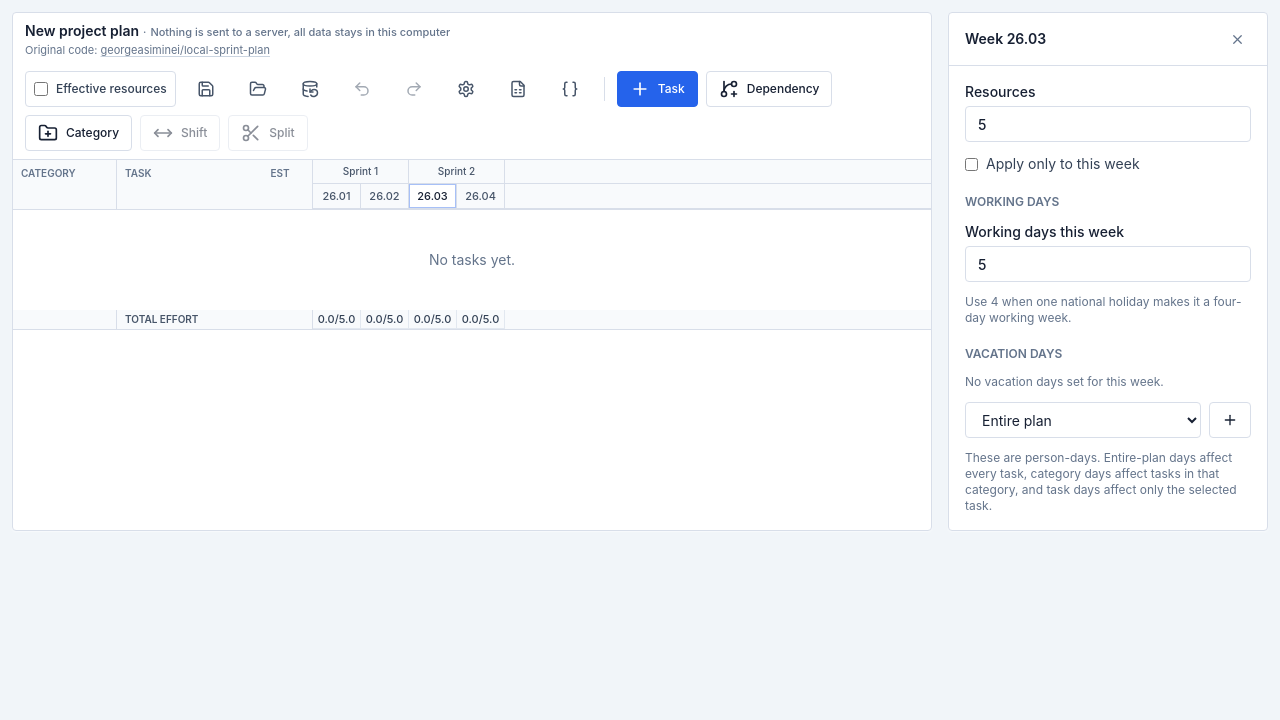
URL-owned app state › defaults external dependency due week to the selected week
Expected: the text "Nothing is sent to a server, all data stays in this computer" is shown, [150, 25, 450, 39]
Click the button with aria-label "New dependency" at (769,88), box [706, 70, 832, 106]
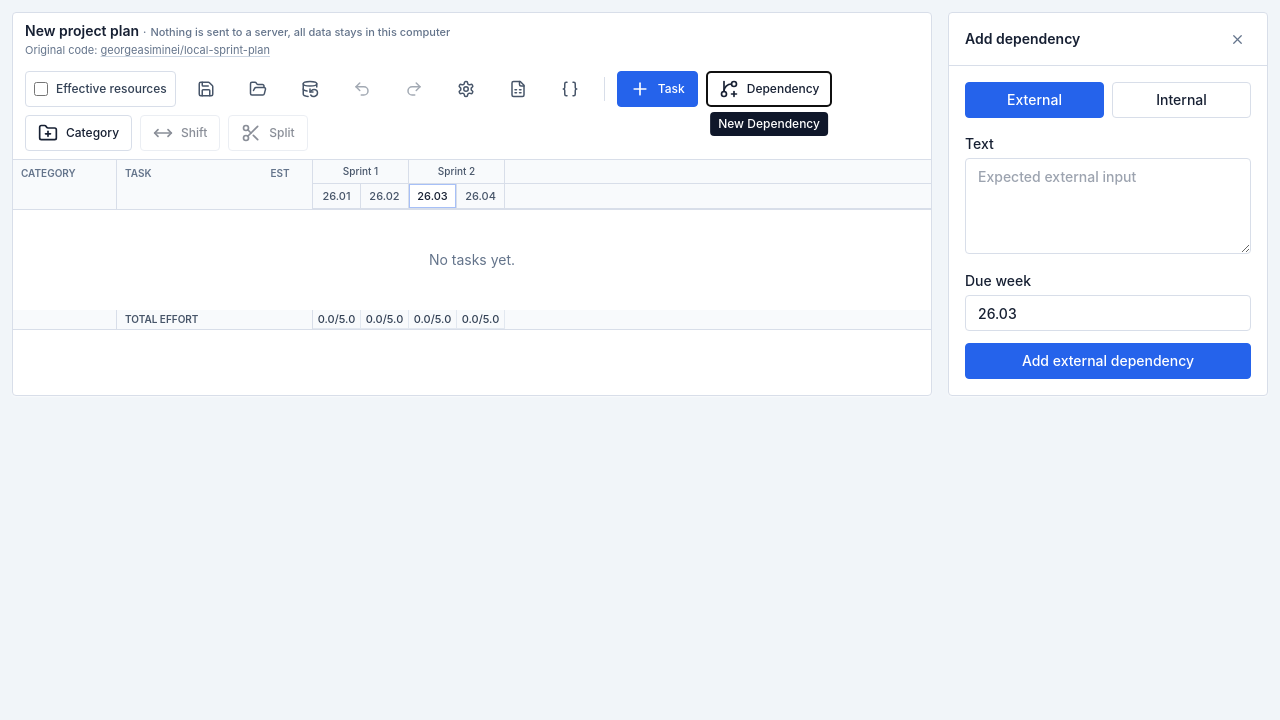
Result: the text "Add dependency" is shown at [965, 29, 1080, 49]
Result: the field labelled "Due week" holds "26.03" at [965, 295, 1251, 331]
